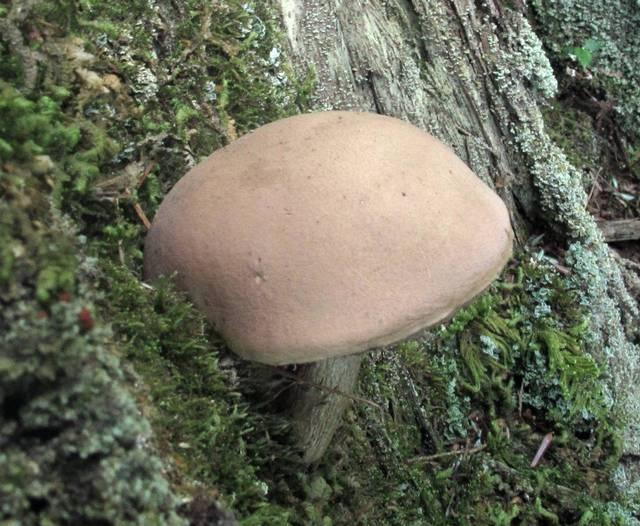poisonous_mushroom: (140, 108, 515, 466)
